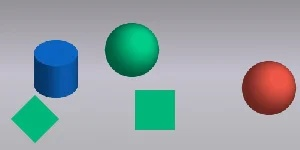圆柱体: (30, 39, 80, 98)
正方形: (132, 87, 176, 132)
球体: (103, 20, 162, 78), (241, 60, 299, 116)
菱形: (11, 94, 59, 144)
